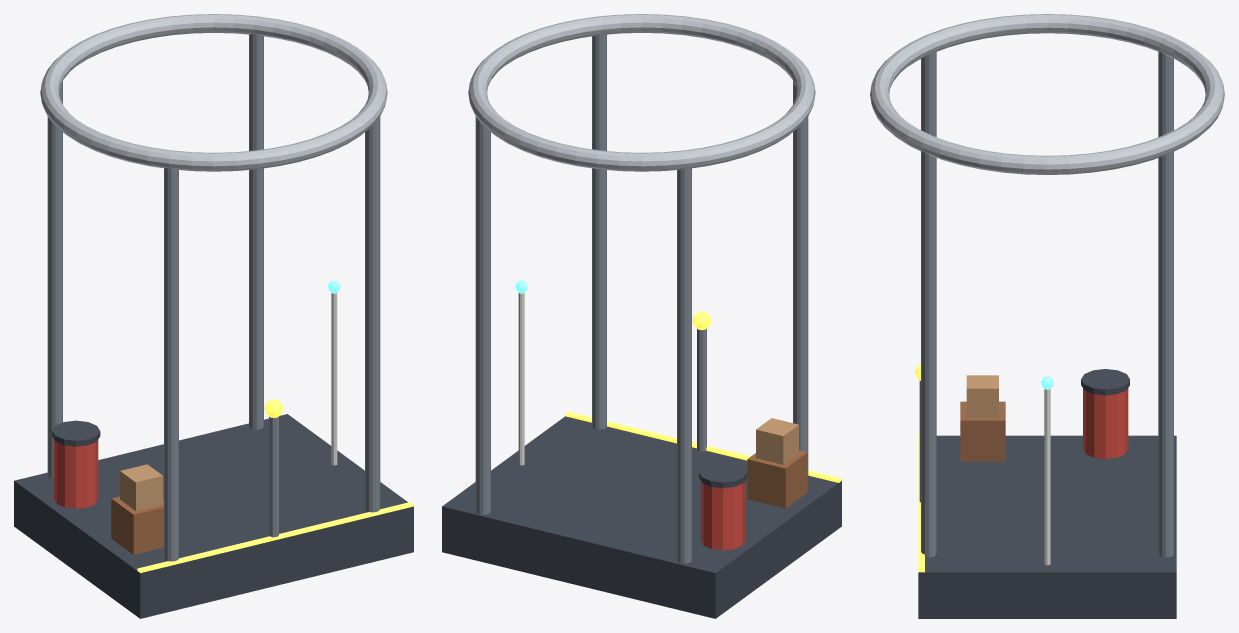
Rendered from site_galaxy.glb.
3 views of the same model, side by side, from view 1: azimuth 30°, elevation 25°; view 2: azimuth 150°, elevation 25°; view 3: azimuth 270°, elevation 25° (orthographic). The views are drawn at different scales.
Parts seen in each view (by area): view 1: site_galaxy; view 2: site_galaxy; view 3: site_galaxy.
Boxes of the visible parts, x1,y1,x2,y2 form: site_galaxy: [14, 14, 413, 618]; site_galaxy: [442, 14, 841, 618]; site_galaxy: [870, 14, 1224, 618].
Bounding box in the file's own units: 5.5 × 7.95 × 5.5.
